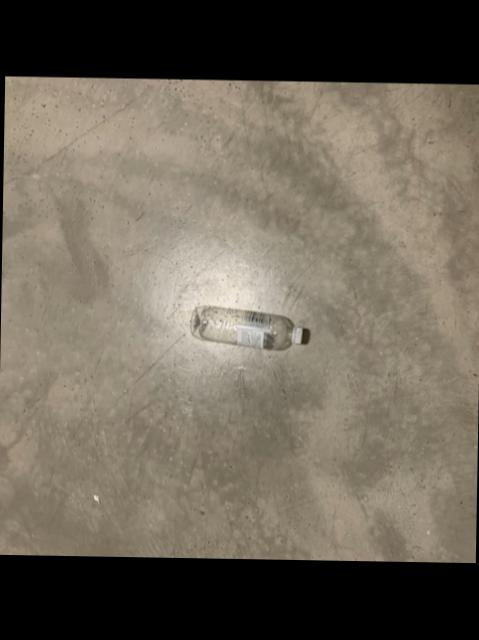plastic: (191, 308, 309, 352)
